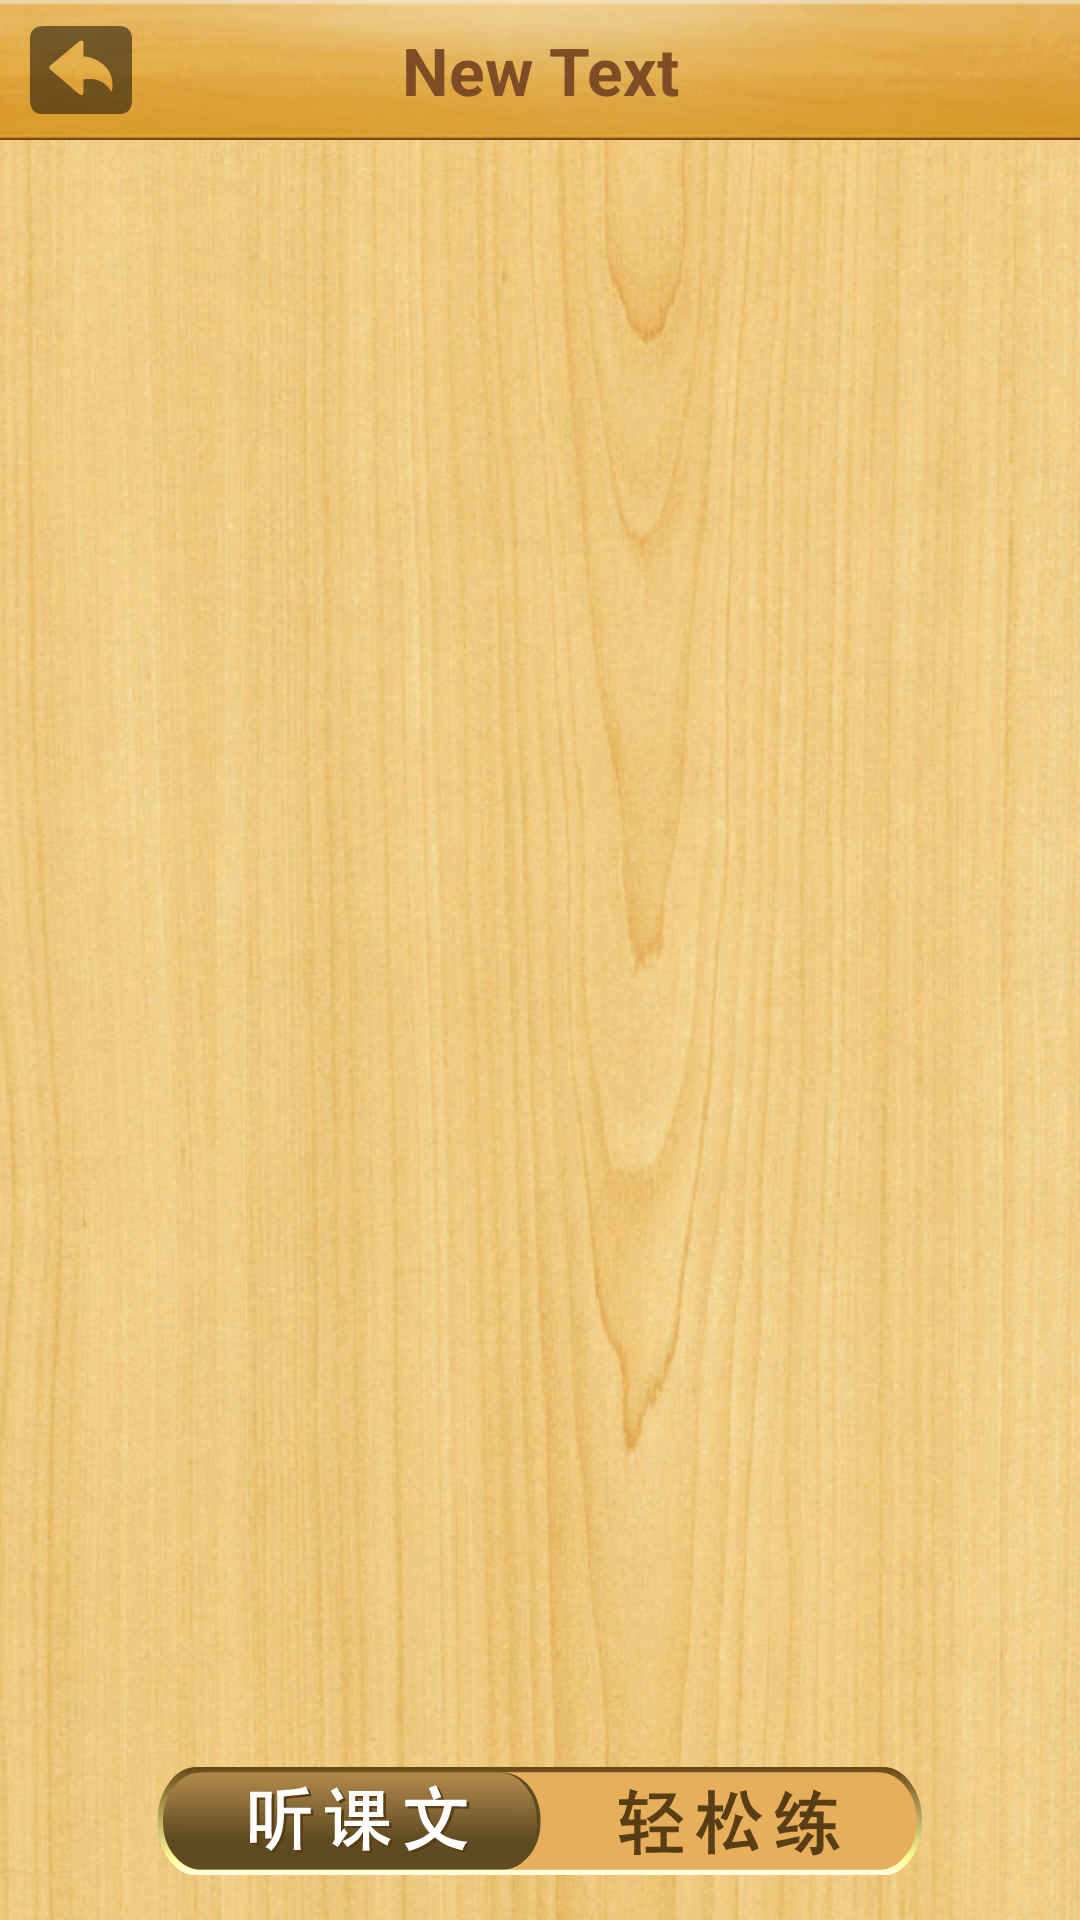

Icon click points for this 1080 x 1920 phone screenshot, format (x,y):
back: (81,70)
